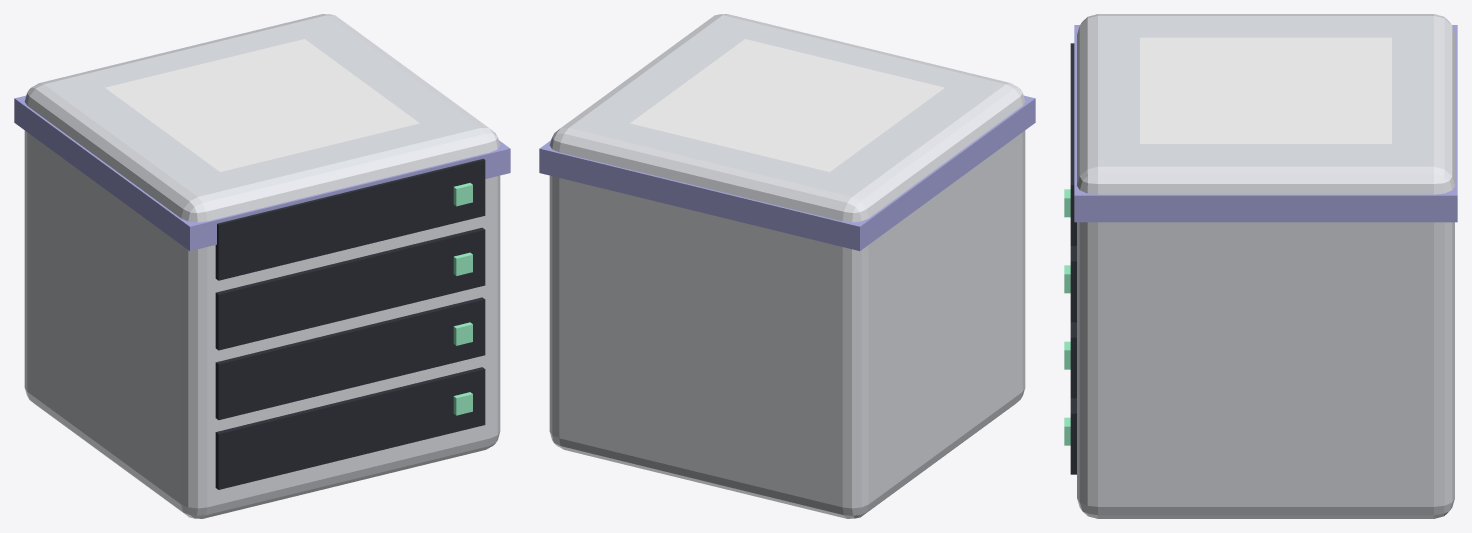
The model's file is infra.glb.
3 views of the same model, side by side, from view 1: azimuth 30°, elevation 25°; view 2: azimuth 150°, elevation 25°; view 3: azimuth 270°, elevation 25° (orthographic). The views are drawn at different scales.
Parts seen in each view (by area): view 1: in_body, in_units, in_logo, in_top, in_leds; view 2: in_body, in_logo, in_top; view 3: in_body, in_logo, in_top, in_units, in_leds.
Part boxes in pixels (x1,y1,x2,y2): in_body: (24,14,500,518); in_units: (215,158,485,489); in_logo: (105,39,419,171); in_top: (14,95,510,250); in_leds: (453,183,472,415); in_body: (549,14,1025,518); in_logo: (630,39,944,171); in_top: (539,95,1035,250); in_body: (1077,14,1454,518); in_logo: (1140,37,1391,143); in_top: (1074,25,1457,222); in_units: (1070,43,1076,474); in_leds: (1064,189,1070,445).
Size of the model in its own units: 0.962 by 0.9215 by 0.936.
